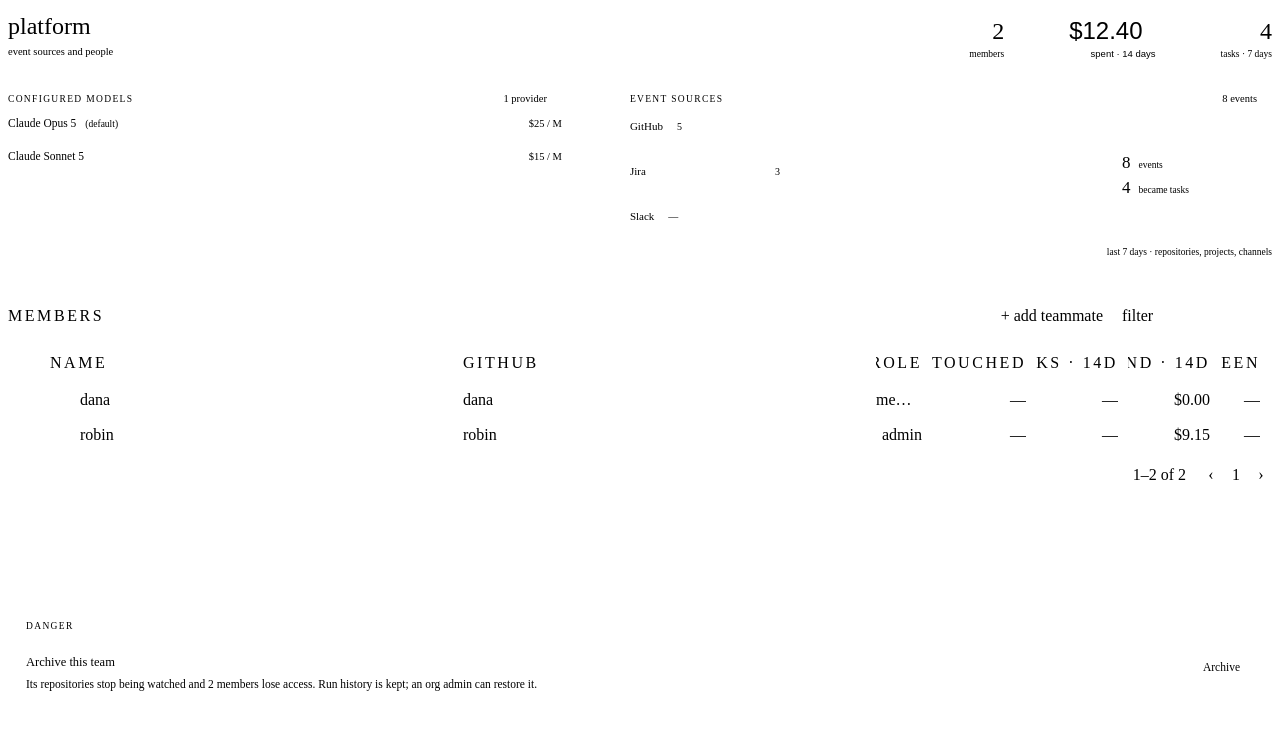
Test: the sources panel › sinks a source the org cannot reach, and counts only the connected
Click the text with class "ts-panel-t" showing "EVENT SOURCES".
click(677, 100)  # box [630,95,723,104]
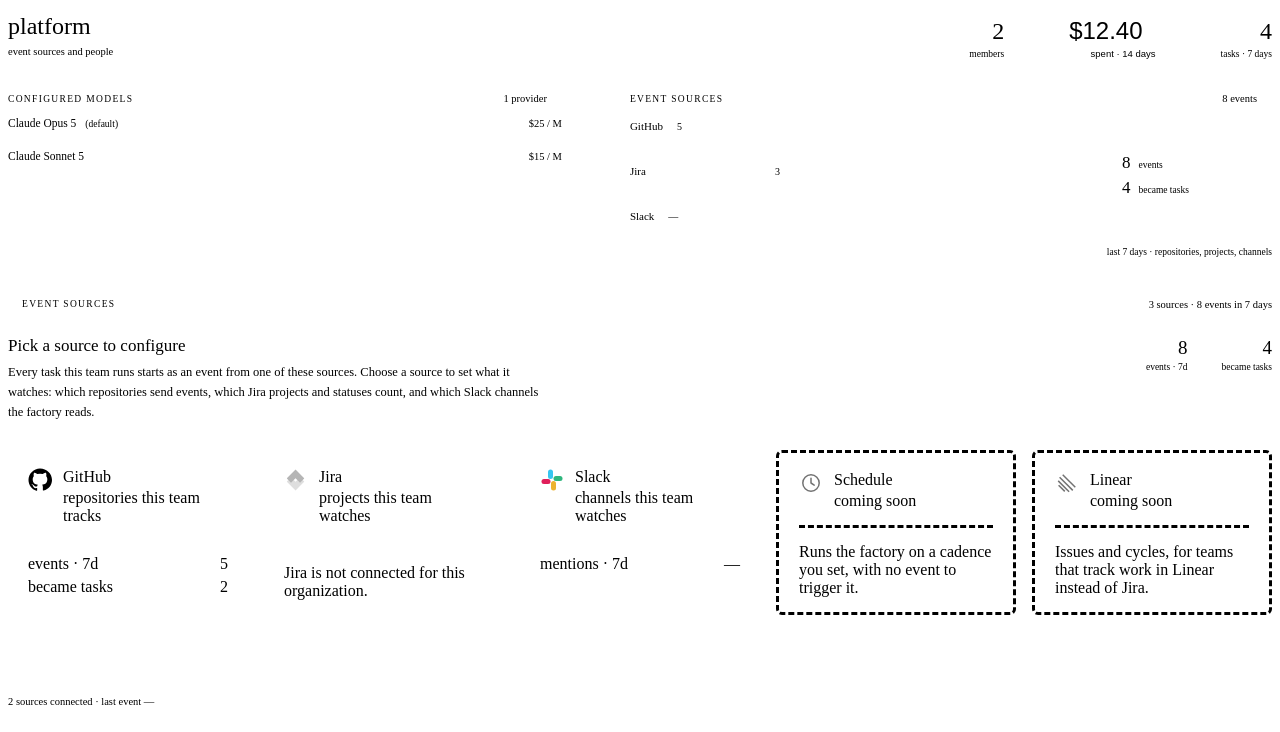
Expected: the text "Jira is not connected for this organization." is shown, [284,564,484,600]
Expected: the 2nd element with class "tf-src" is shown, [284,468,465,599]
Expected: the text "2 sources connected · last event —" is shown, [8,694,154,710]
